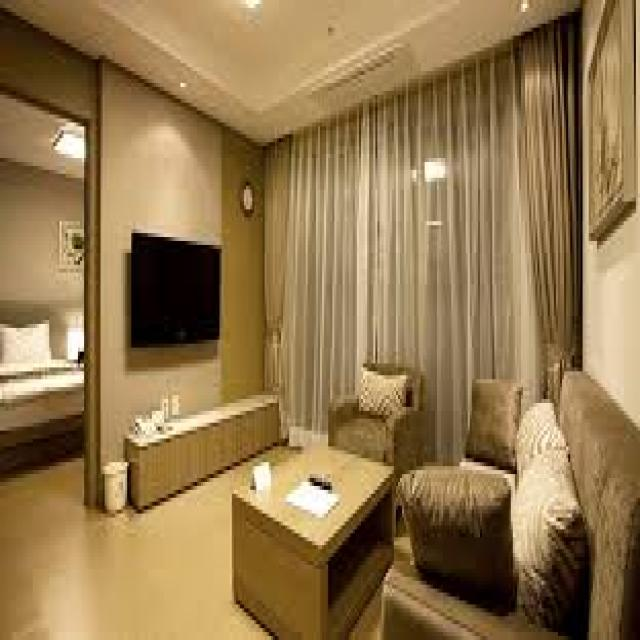Sofa: (433, 363, 640, 640), (325, 355, 425, 461)
Table: (230, 441, 396, 636)
tv: (127, 228, 221, 348)
